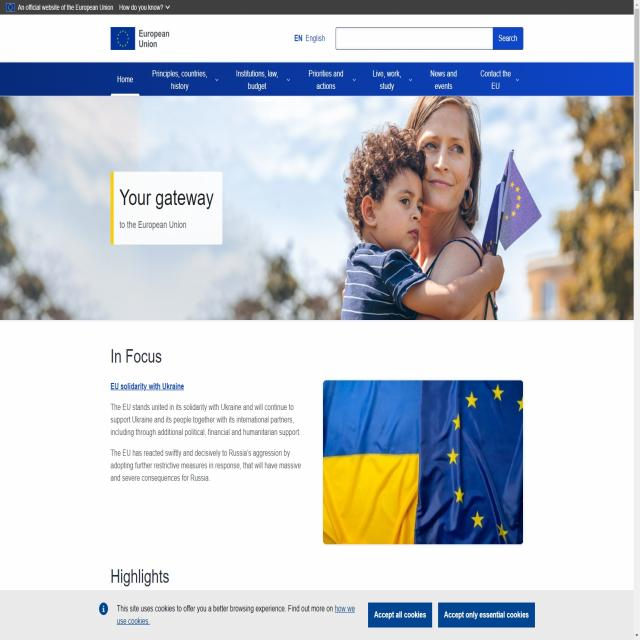menu-bar: (105, 62, 524, 96)
search: (333, 24, 524, 51)
